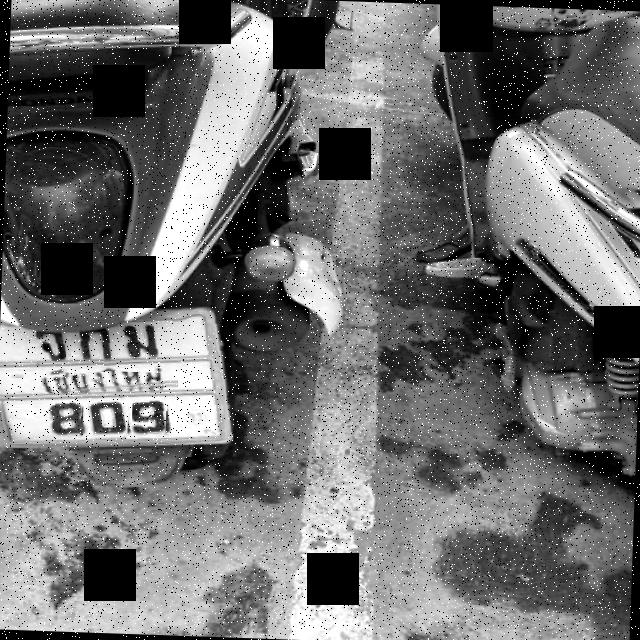letters: (118, 314, 172, 358), (70, 318, 118, 366), (82, 398, 128, 442), (24, 328, 71, 362), (130, 398, 168, 438), (46, 399, 82, 438)
license-plate: (0, 310, 233, 450)
province: (35, 368, 178, 398)
